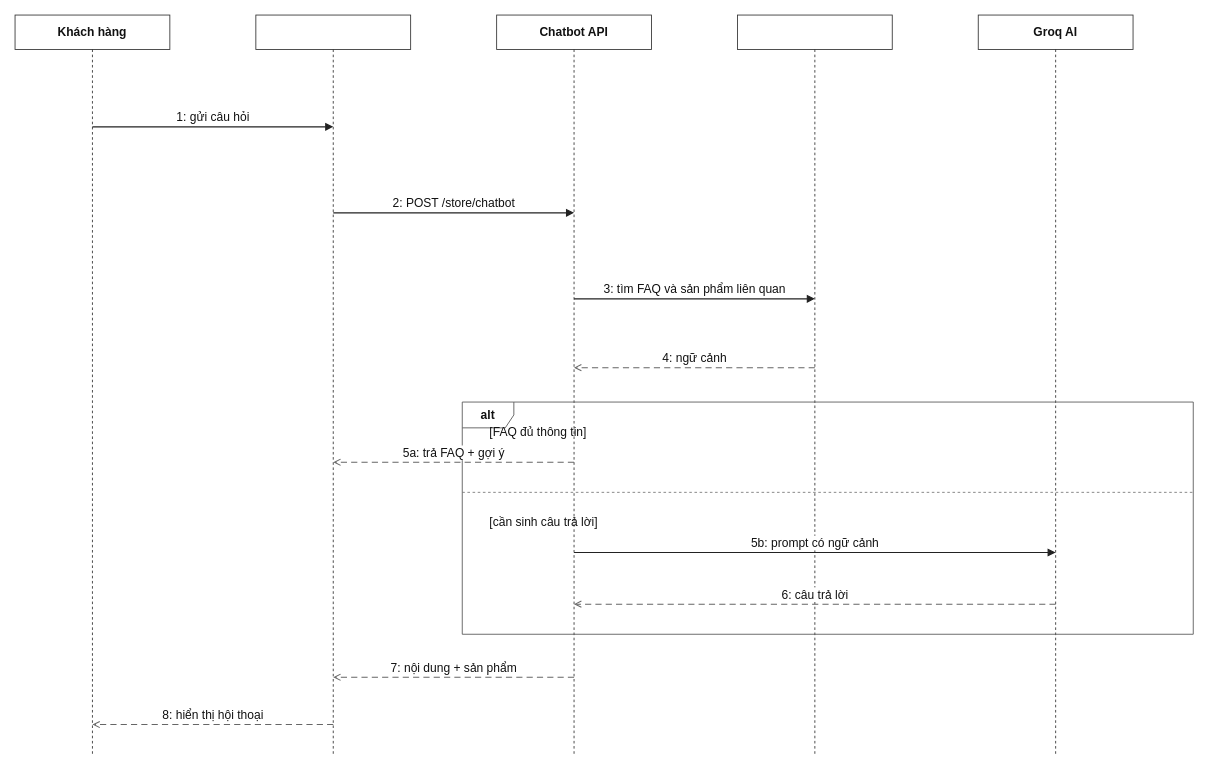
This 1209x770 diagram has some shape labels left out. Here are the shapes that lost their labels. From the top down, the box of each, then its label:
(255, 14, 411, 755): Chat widget
(737, 14, 892, 755): FAQ / Search
